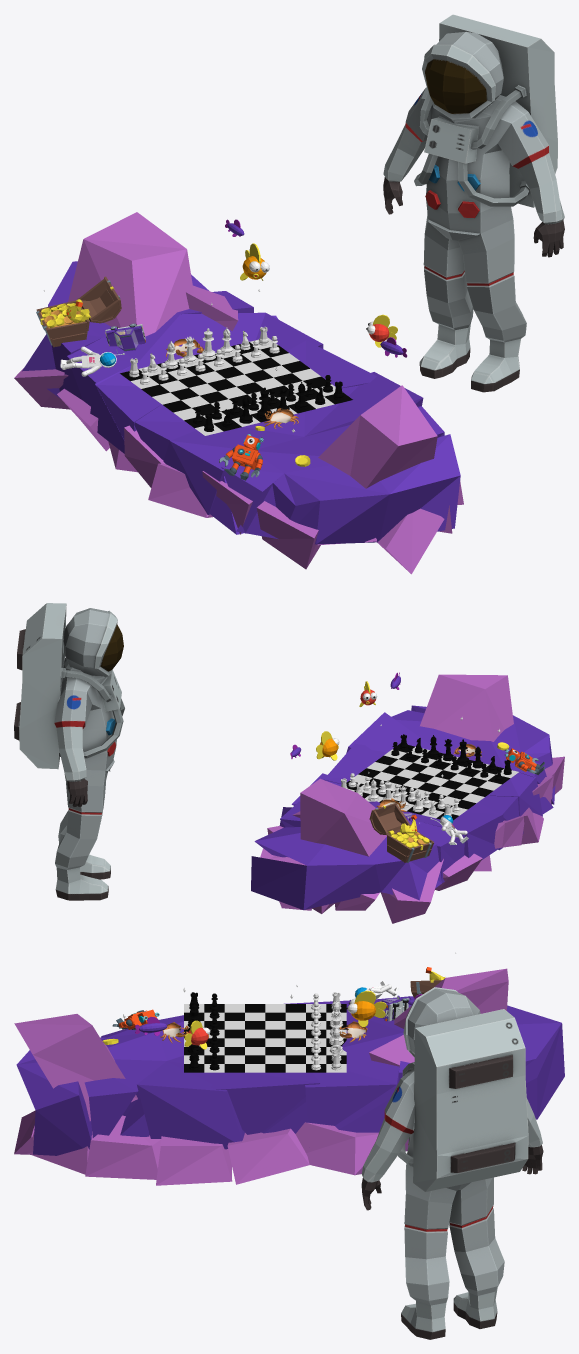
Rendered from chess.glb.
3 renders of one model, top to bottom at view 1: azimuth 30°, elevation 25°; view 2: azimuth 150°, elevation 25°; view 3: azimuth 270°, elevation 25°, orthographic. The views are drawn at different scales.
Parts seen in each view (by area): view 1: Astronaut_mesh.002, group938294867, group685469970, Chessboard.001_Grid.002, group346353283, group109194806, group795427728, group1450045553, group1514744309, group2141108688, group2006633998, group1172106769 (+6 smaller); view 2: group938294867, Astronaut_mesh.002, Chessboard.001_Grid.002, group346353283, group685469970, group109194806, group2141108688, group1367773465, group1172106769, group1514744309, group1661820606, group612392218 (+3 smaller); view 3: Astronaut_mesh.002, group938294867, Chessboard.001_Grid.002, group346353283, group699823051, group2014525625, group122302619, group810189517, group685469970, group1643588596, group2006633998, group1514700289 (+3 smaller).
Boxes of the visible parts, bbox=[...] form: Astronaut_mesh.002: bbox=[383, 14, 564, 392]; group938294867: bbox=[22, 261, 460, 544]; group685469970: bbox=[68, 212, 193, 336]; Chessboard.001_Grid.002: bbox=[120, 338, 352, 435]; group346353283: bbox=[318, 385, 437, 488]; group109194806: bbox=[36, 276, 121, 347]; group795427728: bbox=[377, 508, 444, 574]; group1450045553: bbox=[256, 501, 320, 569]; group1514744309: bbox=[148, 463, 212, 517]; group2141108688: bbox=[14, 368, 70, 409]; group2006633998: bbox=[186, 285, 238, 331]; group1172106769: bbox=[124, 425, 165, 487]; group938294867: bbox=[251, 705, 555, 910]; Astronaut_mesh.002: bbox=[14, 603, 124, 900]; Chessboard.001_Grid.002: bbox=[346, 743, 518, 820]; group346353283: bbox=[420, 674, 513, 741]; group685469970: bbox=[300, 778, 386, 856]; group109194806: bbox=[369, 803, 433, 862]; group2141108688: bbox=[380, 859, 443, 923]; group1367773465: bbox=[435, 853, 482, 890]; group1172106769: bbox=[494, 816, 524, 848]; group1514744309: bbox=[521, 807, 543, 844]; group1661820606: bbox=[504, 748, 544, 774]; group612392218: bbox=[335, 892, 379, 910]; Astronaut_mesh.002: bbox=[361, 987, 543, 1339]; group938294867: bbox=[16, 996, 564, 1155]; Chessboard.001_Grid.002: bbox=[184, 1004, 346, 1072]; group346353283: bbox=[14, 1014, 137, 1121]; group699823051: bbox=[85, 1115, 161, 1179]; group2014525625: bbox=[156, 1136, 232, 1185]; group122302619: bbox=[227, 1128, 309, 1184]; group810189517: bbox=[295, 1122, 378, 1175]; group685469970: bbox=[394, 968, 508, 1028]; group1643588596: bbox=[346, 990, 386, 1026]; group2006633998: bbox=[369, 1035, 414, 1067]; group1514700289: bbox=[27, 1131, 92, 1174].
Size of the model in its own units: 2.69 by 1.68 by 2.57.
33 materials, 1 textured.
